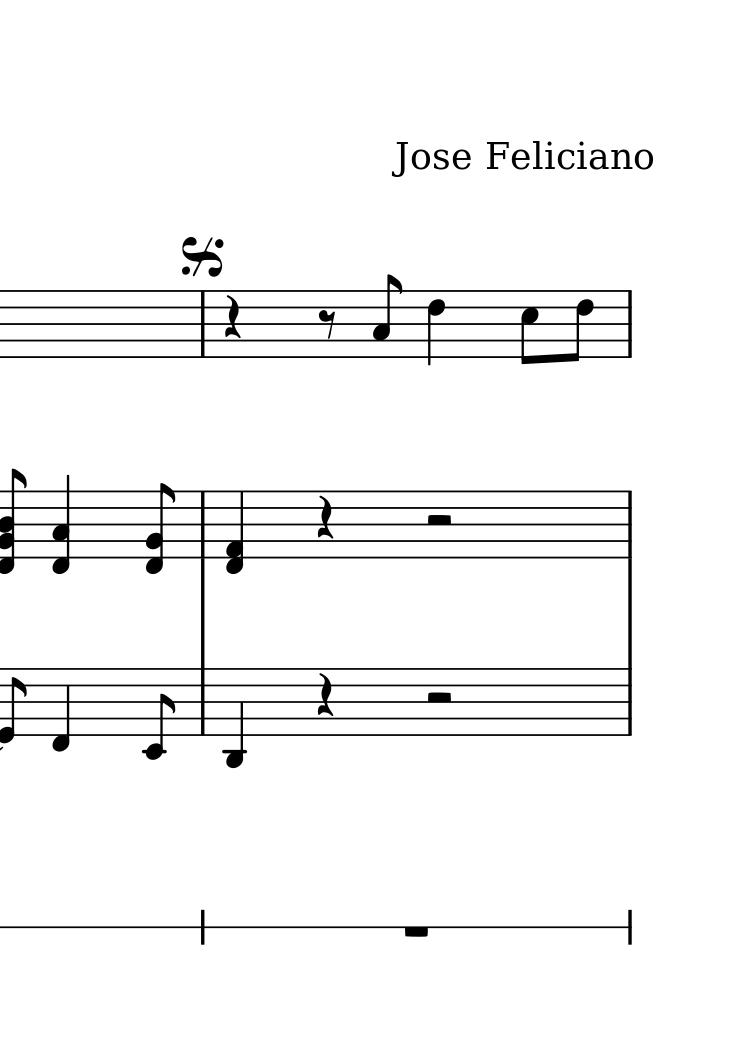4_-1: (48, 667, 74, 754)
4_-1_1: (225, 489, 246, 577)
4_-1_3: (52, 476, 72, 577)
4_-3: (222, 665, 248, 771)
4_6: (425, 287, 449, 371)
8_-1_2: (145, 483, 178, 575)
8_-2: (140, 666, 178, 763)
8_0: (1, 667, 26, 745)
8_3: (372, 275, 403, 360)
8_5: (518, 290, 541, 368)
8_6: (566, 288, 595, 364)
8_th: (1, 465, 27, 577)
Rests1: (400, 923, 433, 942)
Rests2: (422, 512, 454, 532), (423, 689, 454, 706)
Rests4: (221, 294, 245, 341), (317, 495, 339, 543), (314, 673, 336, 720)
Rests8: (317, 308, 339, 343)
Segno: (176, 232, 227, 282)
Single_barline: (193, 491, 212, 557), (620, 290, 638, 357), (193, 669, 211, 735), (619, 668, 637, 734), (194, 291, 211, 357), (621, 491, 637, 557)
